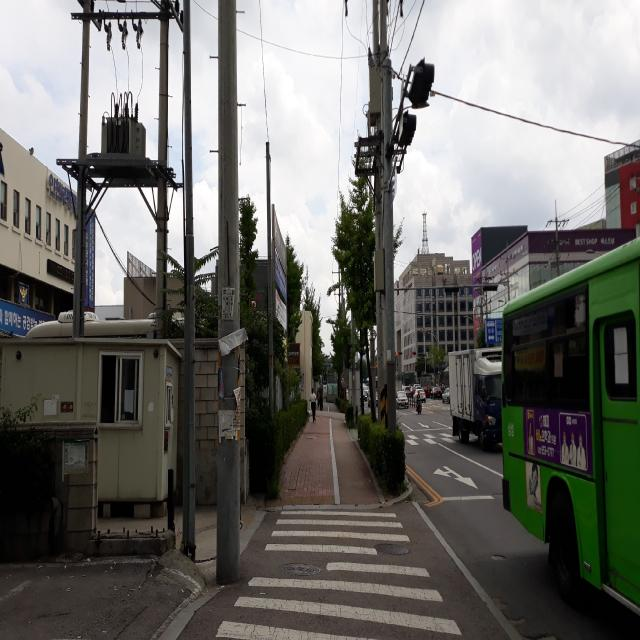횡단보도: (213, 508, 464, 640)
